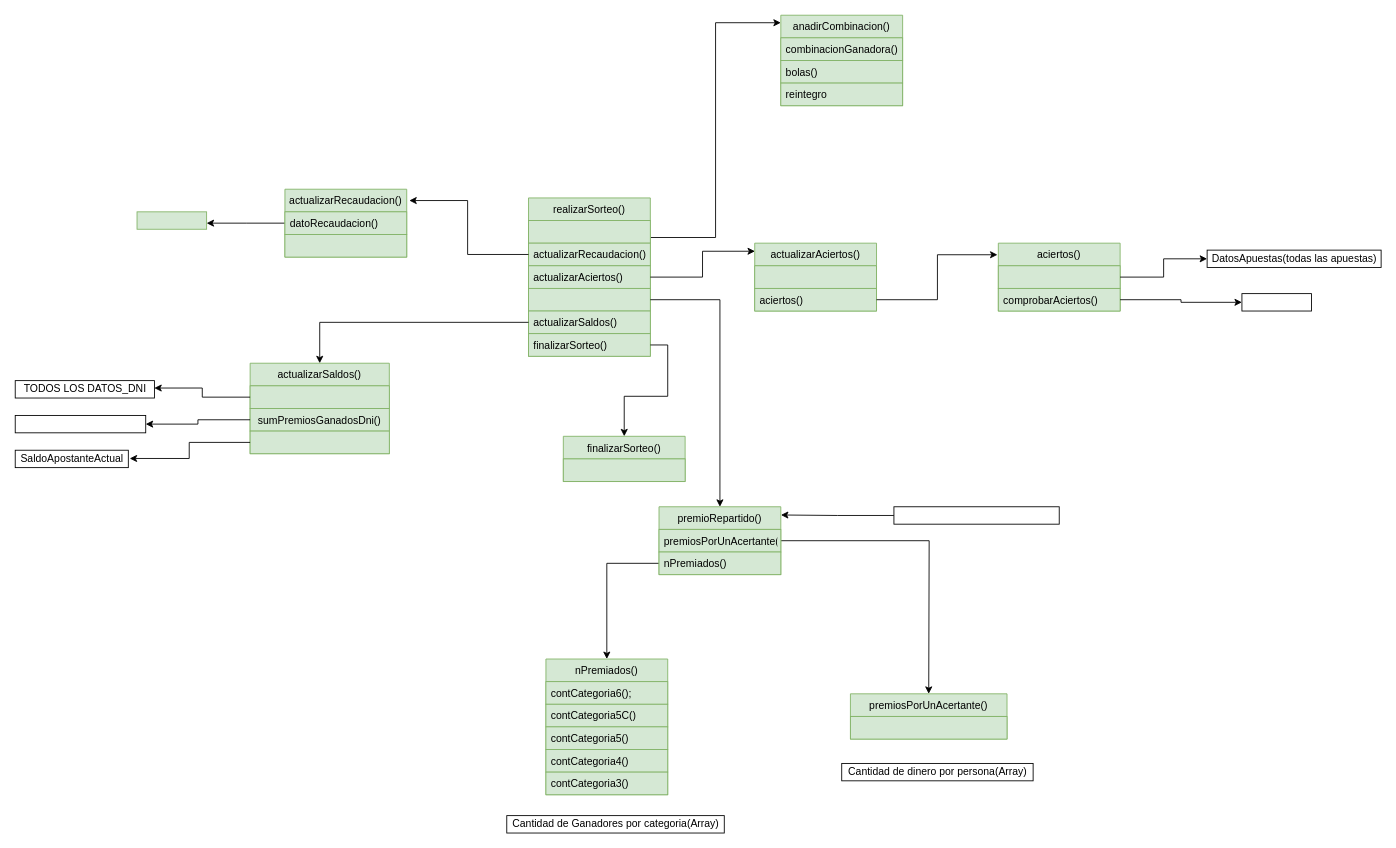
Some shapes in this 1396 by 848 pixel diagram are drawn without their labels. The centre of each missing label's shape, as x and y in pixels:
$actualizar: pixel 345 245
$insert: pixel 623 470
actualizarPremios(): pixel 589 299
apuestasSorteo(): pixel 1058 276
array(0,0,0): pixel 1276 302
añadirCombinacion(): pixel 589 231
consultarBote(): pixel 928 727
idAPUESTA(): pixel 815 276
idDNI(): pixel 319 396
Premios final para repartir (Array): pixel 976 515
recaudacion: pixel 171 220
saldoApostante(): pixel 319 442
Suma Premios Ganados: pixel 80 424
